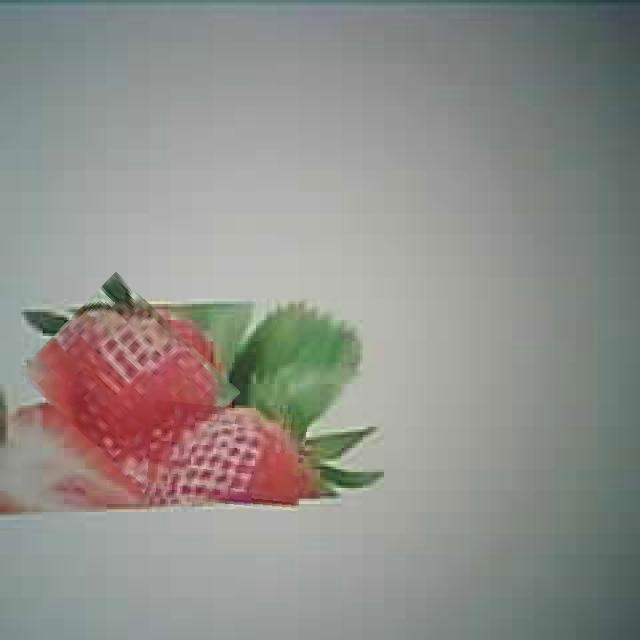strawberry: (30, 293, 228, 473), (147, 404, 306, 509)
